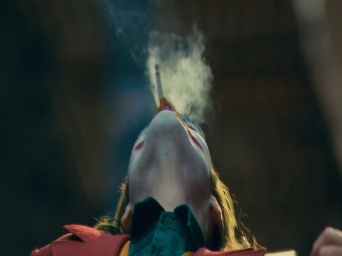smoke: (153, 63, 166, 111)
